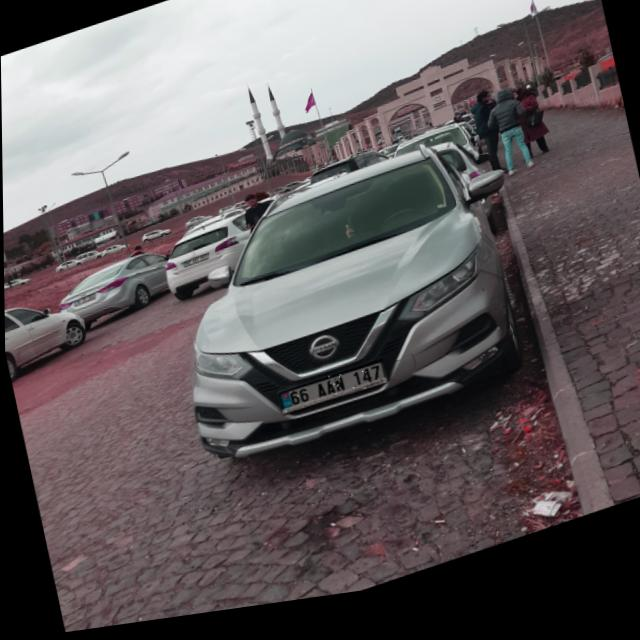license_plate: (277, 369, 386, 425)
